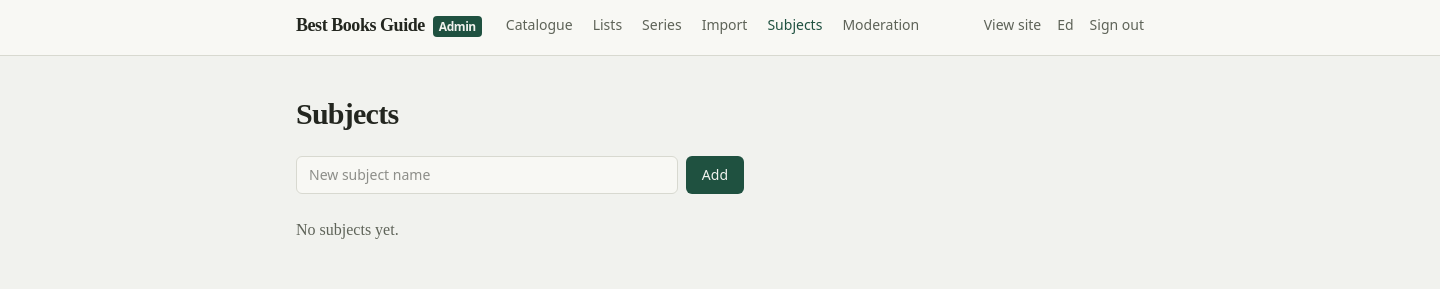
SubjectsPage › adds a subject
Type "History" into the field labelled "New subject name" at (487, 175), box x1=296 y1=156 x2=678 y2=194
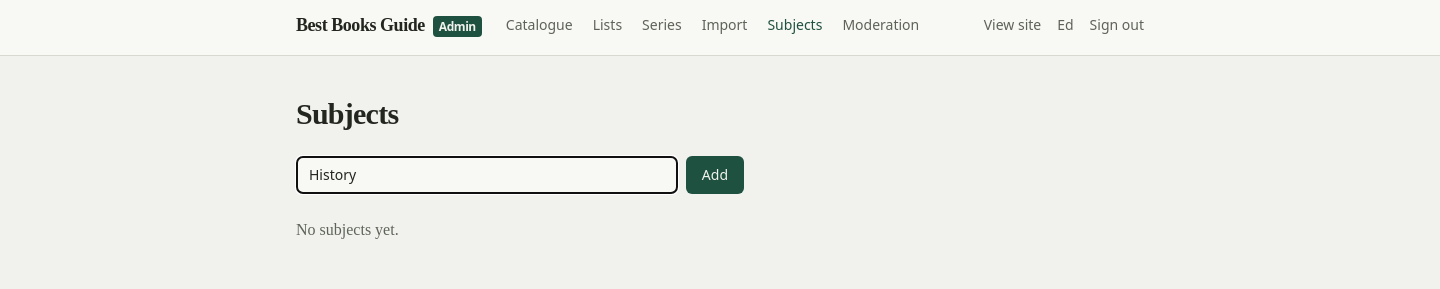
Click the button "Add" at (715, 175), box x1=686 y1=156 x2=744 y2=194
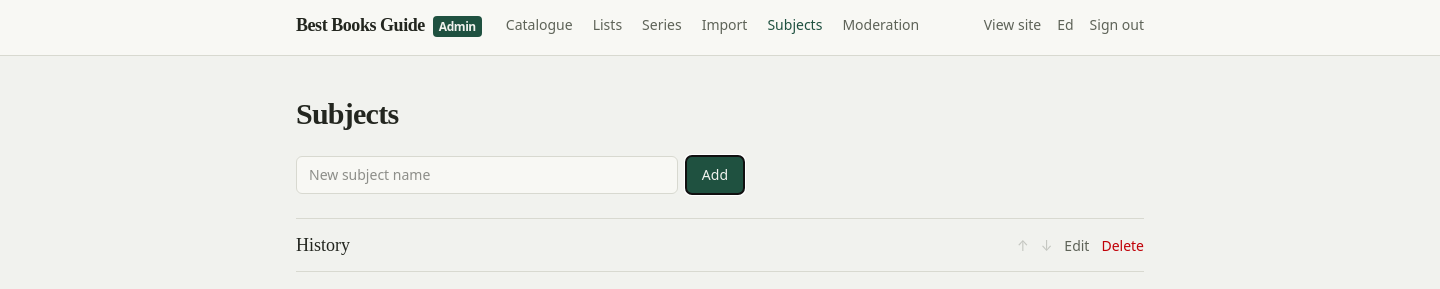
Result: the text "History" is shown at x1=296 y1=231 x2=350 y2=259
